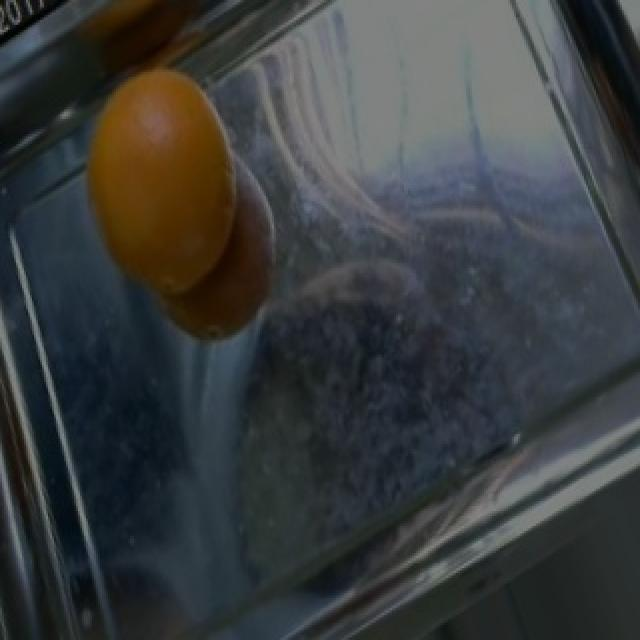Fruit: (62, 52, 262, 315)
